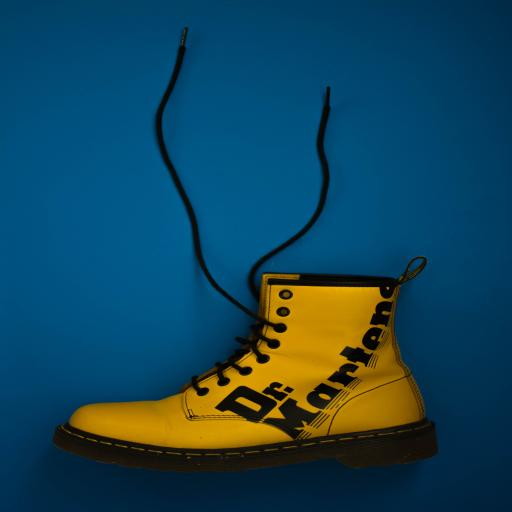shoe: (54, 30, 437, 471)
